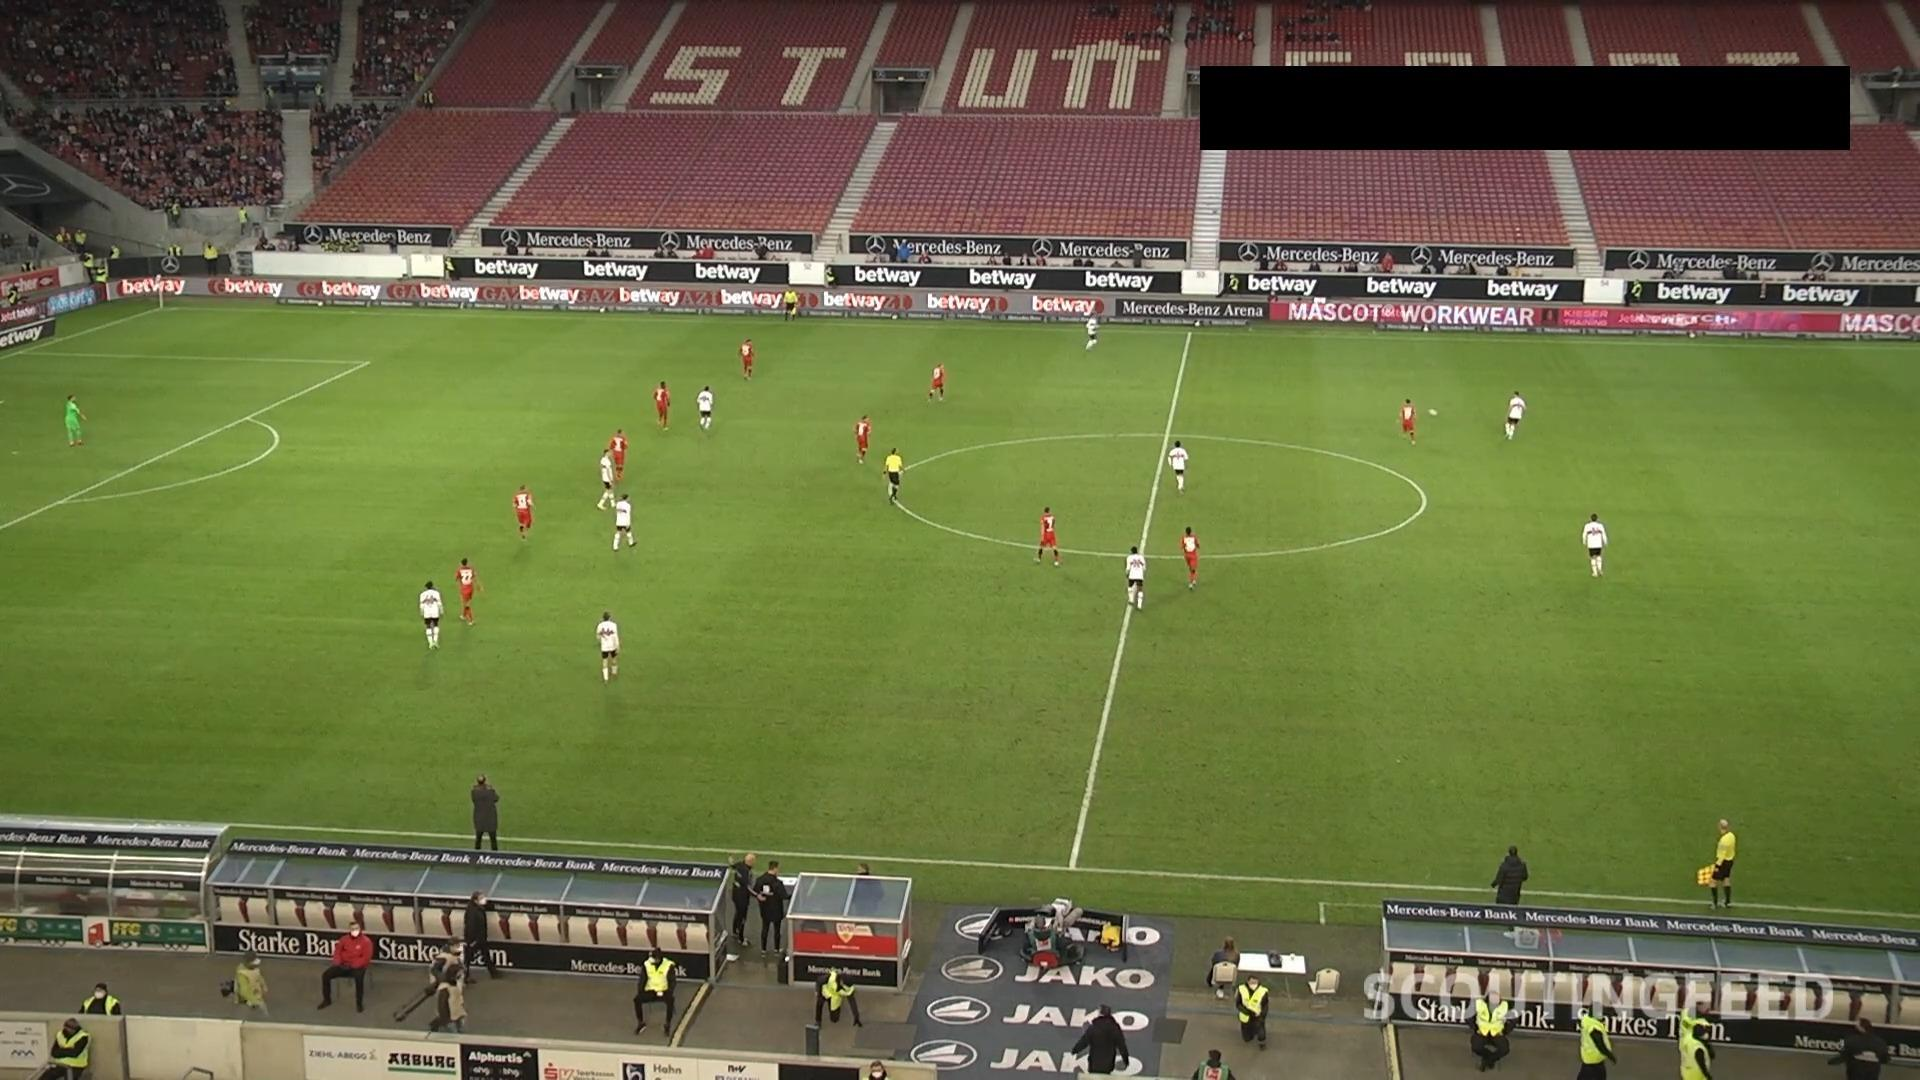ball: (1428, 406, 1437, 417)
